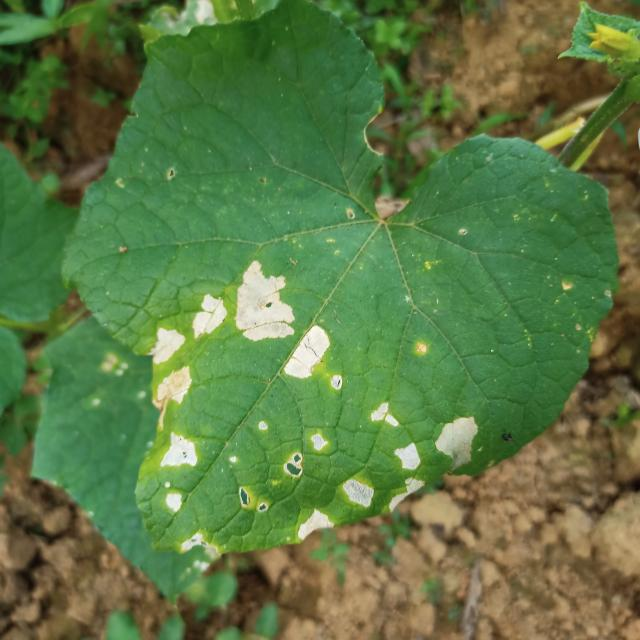disease_cucumber: (234, 259, 328, 382), (162, 432, 200, 518), (152, 327, 192, 405), (432, 416, 480, 471), (387, 442, 423, 506), (282, 432, 328, 477), (187, 292, 228, 340), (294, 508, 334, 542), (342, 476, 376, 510), (369, 401, 400, 431)
